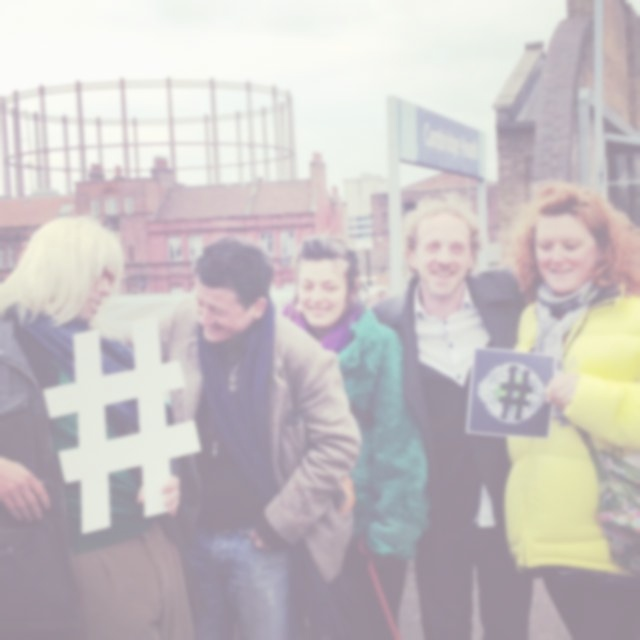pessoa: (111, 235, 365, 640), (0, 212, 202, 640), (368, 192, 543, 640), (498, 179, 639, 639), (281, 232, 429, 640)
